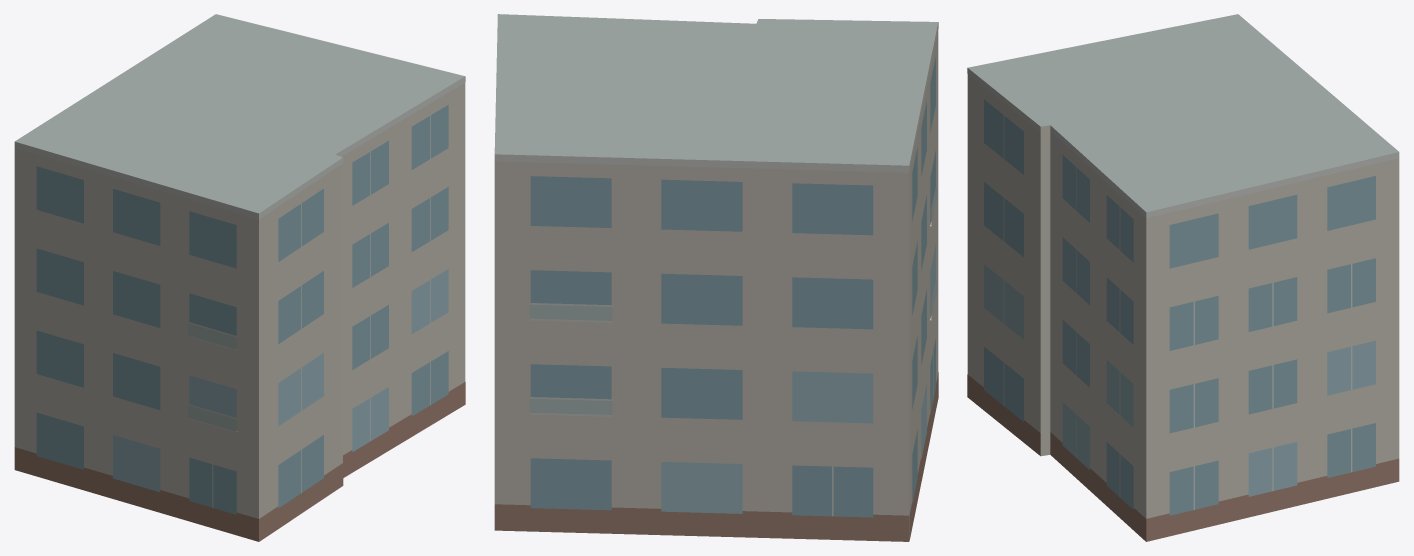
The model's file is survey-upis-32818505.glb.
3 views of the same model, side by side, from view 1: azimuth 30°, elevation 25°; view 2: azimuth 150°, elevation 25°; view 3: azimuth 270°, elevation 25° (orthographic). The views are drawn at different scales.
Visible parts, largest first — view 1: survey-upis-32818505.tmp; view 2: survey-upis-32818505.tmp; view 3: survey-upis-32818505.tmp.
Part boxes in pixels (left/top/right/bottom): survey-upis-32818505.tmp: left=14, top=14, right=465, bottom=541; survey-upis-32818505.tmp: left=494, top=14, right=938, bottom=541; survey-upis-32818505.tmp: left=967, top=14, right=1399, bottom=541.
Bounding box in the file's own units: 17.05 × 13.2 × 15.69.
